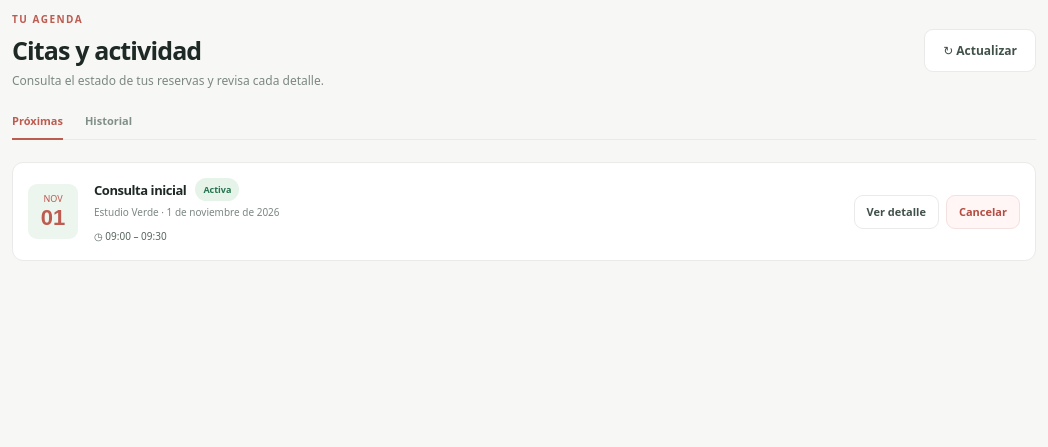
Test case: BookingsPage › cancels the selected reservation and refreshes the active list
Click the button "Cancelar": (983, 212) [946, 194, 1020, 228]
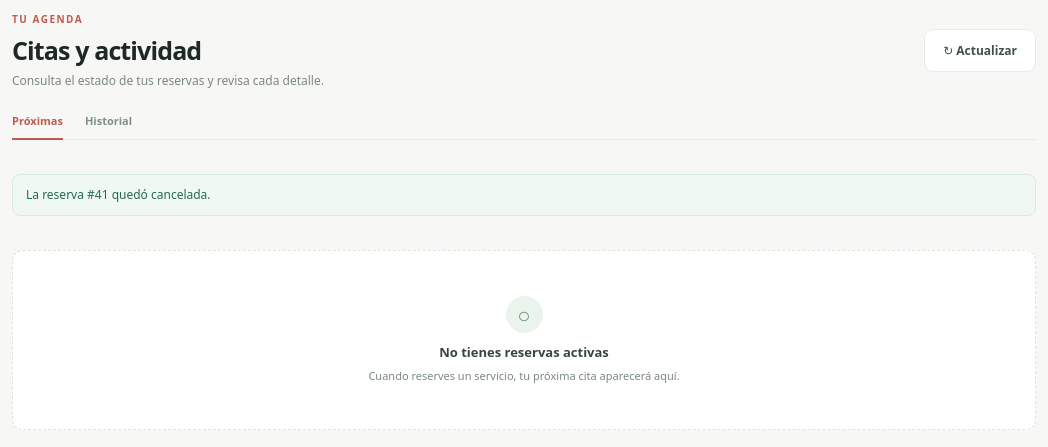
expect the text "No tienes reservas activas" is shown: met, box [439, 343, 609, 361]
expect the message shows "quedó cancelada": met, box [26, 186, 211, 203]
